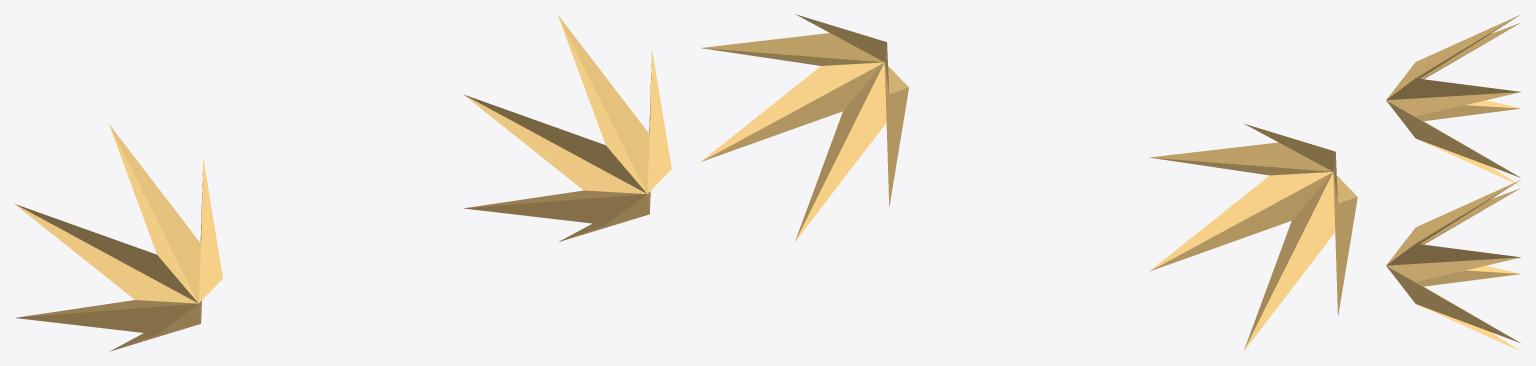
Rendered from muzzle_flash.obj.
3 renders of one model, left to right at view 1: azimuth 30°, elevation 25°; view 2: azimuth 150°, elevation 25°; view 3: azimuth 270°, elevation 25°, orthographic. The views are drawn at different scales.
Visible parts, largest first — view 1: muzzle_flash_Plane; view 2: muzzle_flash_Plane; view 3: muzzle_flash_Plane.
Boxes of the visible parts, x1,y1,x2,y2 form: muzzle_flash_Plane: (15, 14, 671, 351); muzzle_flash_Plane: (701, 14, 1357, 351); muzzle_flash_Plane: (1386, 14, 1521, 351).
Bounding box in the file's own units: 2.8 × 0.9582 × 0.684.
